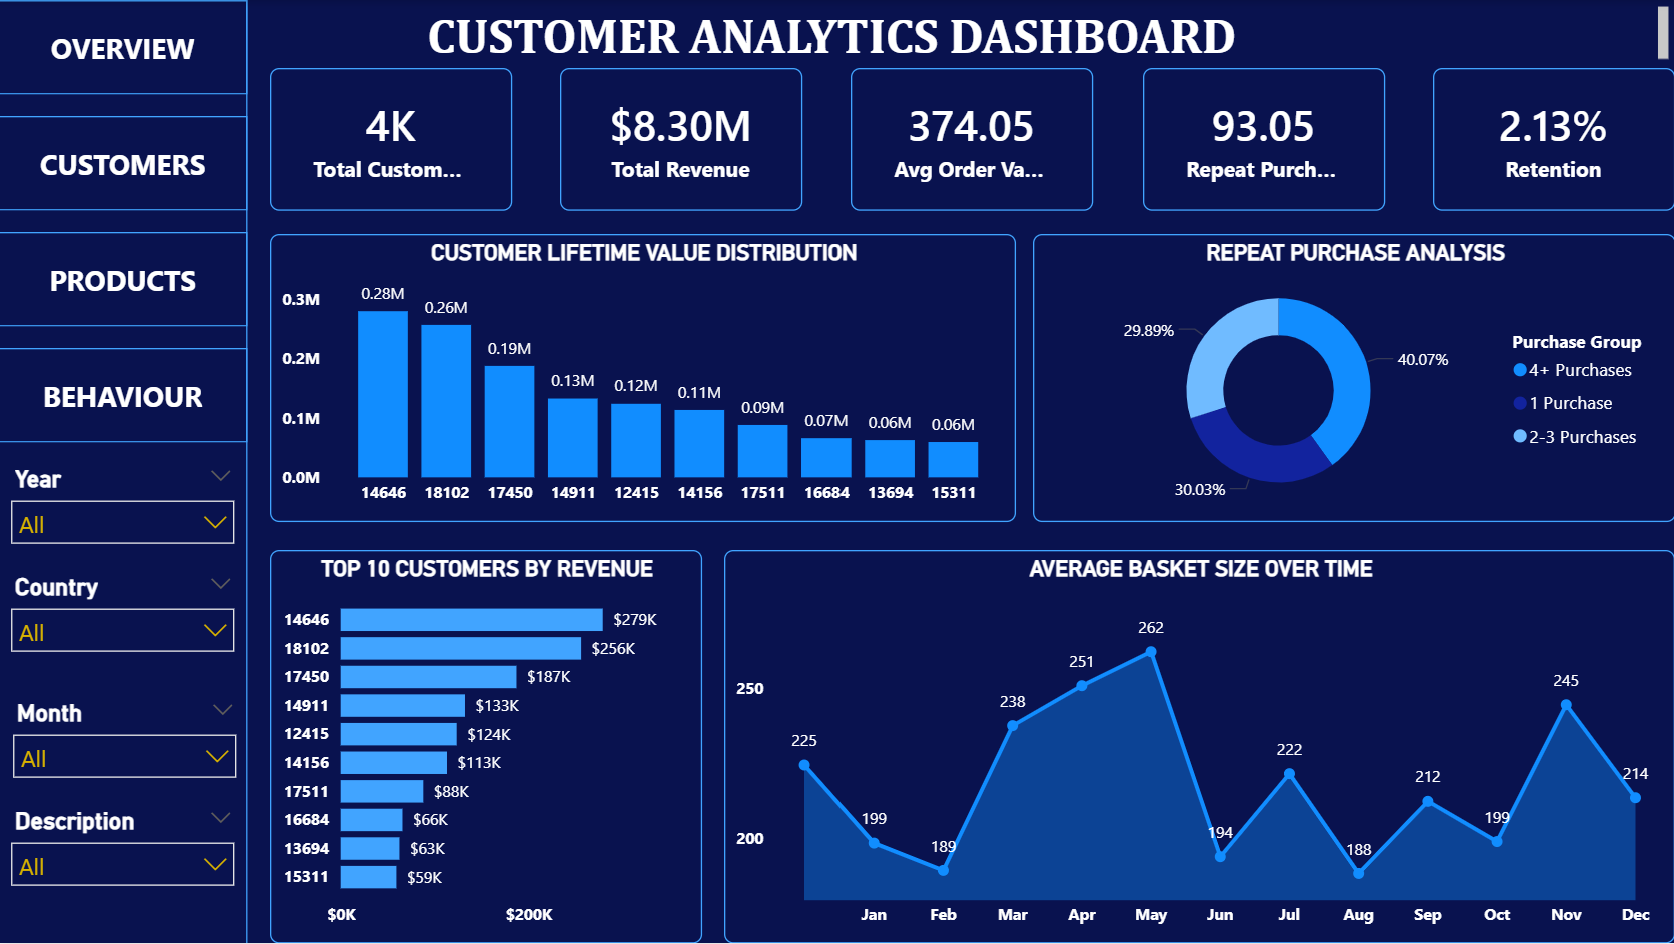

Layout of this report page (visuals, bound fields, positions):
{"tool":"powerbi","page":{"name":"CUSTOMERS","canvas":[1280,720],"ordinal":1},"visuals":[{"type":"textbox","box":[0,0,1280,51.8],"z":0},{"type":"cardVisual","fields":{"Data":["data.Total Customers"]},"box":[207.2,51.8,185,109.1],"z":1000},{"type":"cardVisual","fields":{"Data":["data.Total Revenue"]},"box":[429.1,51.8,185,109.1],"z":2000},{"type":"cardVisual","fields":{"Data":["data.Avg Order Value"]},"box":[651.1,51.8,185,109.1],"z":3000},{"type":"cardVisual","fields":{"Data":["data.Repeat Purchase"]},"box":[873.1,51.8,185,109.1],"z":4000},{"type":"cardVisual","fields":{"Data":["data.Retention"]},"box":[1095,51.8,185,109.1],"z":5000},{"type":"clusteredBarChart","title":"TOP 10 CUSTOMERS BY REVENUE","fields":{"Category":["data.CustomerID"],"Y":["data.Total Revenue"]},"box":[207.6,420.2,329.8,300.5],"z":6000},{"type":"clusteredColumnChart","title":"CUSTOMER LIFETIME VALUE DISTRIBUTION","fields":{"Category":["data.CustomerID"],"Y":["data.Customer Lifetime Value"]},"box":[207.6,178.3,569.2,219.8],"z":7000},{"type":"donutChart","title":"REPEAT PURCHASE ANALYSIS","fields":{"Category":["data.Purchase Group"],"Y":["data.Customer Count"]},"box":[789,178.3,491,219.8],"z":8000},{"type":"lineChart","title":"AVERAGE BASKET SIZE OVER TIME","fields":{"Category":["data.Month"],"Y":["data.Average Basket Size"]},"box":[554.5,420.2,725.5,300.5],"z":9000},{"type":"shape","box":[0,0,190.5,723.1],"z":10000},{"type":"actionButton","box":[0,0,190.5,72.1],"z":11000},{"type":"actionButton","box":[0,88.8,190.5,72.1],"z":12000},{"type":"actionButton","box":[0,177.6,190.5,72.1],"z":13000},{"type":"actionButton","box":[0,266.4,190.5,72.1],"z":14000},{"type":"slicer","fields":{"Values":["data.Year"]},"box":[0,349.6,190.5,83.2],"z":15000},{"type":"slicer","fields":{"Values":["data.Country"]},"box":[0,432.8,190.5,81.4],"z":16000},{"type":"slicer","fields":{"Values":["data.Month"]},"box":[1.8,529,190.5,81.4],"z":17000},{"type":"slicer","fields":{"Values":["data.Description"]},"box":[0,610.4,190.5,81.4],"z":18000}]}

Visuals, with their boxes in screenshot pixels (x1, y1, x2, y2), scaled from the page's 1280x720 canvas onto the 1674x944 screenshot:
textbox: (0, 0, 1673, 68)
cardVisual - data.Total Customers: (271, 68, 513, 211)
cardVisual - data.Total Revenue: (561, 68, 803, 211)
cardVisual - data.Avg Order Value: (852, 68, 1093, 211)
cardVisual - data.Repeat Purchase: (1142, 68, 1384, 211)
cardVisual - data.Retention: (1432, 68, 1673, 211)
"TOP 10 CUSTOMERS BY REVENUE" clusteredBarChart: (272, 551, 703, 943)
"CUSTOMER LIFETIME VALUE DISTRIBUTION" clusteredColumnChart: (272, 234, 1016, 522)
"REPEAT PURCHASE ANALYSIS" donutChart: (1032, 234, 1673, 522)
"AVERAGE BASKET SIZE OVER TIME" lineChart: (725, 551, 1673, 943)
shape: (0, 0, 249, 943)
actionButton: (0, 0, 249, 95)
actionButton: (0, 116, 249, 211)
actionButton: (0, 233, 249, 327)
actionButton: (0, 349, 249, 444)
slicer - data.Year: (0, 458, 249, 567)
slicer - data.Country: (0, 567, 249, 674)
slicer - data.Month: (2, 694, 251, 800)
slicer - data.Description: (0, 800, 249, 907)
